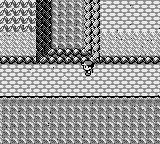captura: (2, 1, 35, 31)
main: (81, 61, 94, 75)
no-caminable: (1, 97, 159, 143), (36, 0, 99, 64)
salto: (101, 56, 160, 64), (1, 56, 35, 64)
